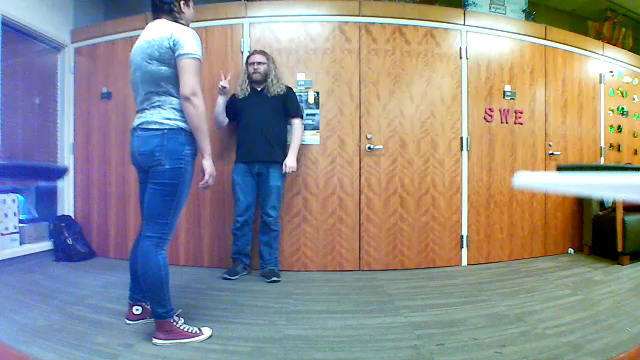peace: (214, 67, 238, 98)
